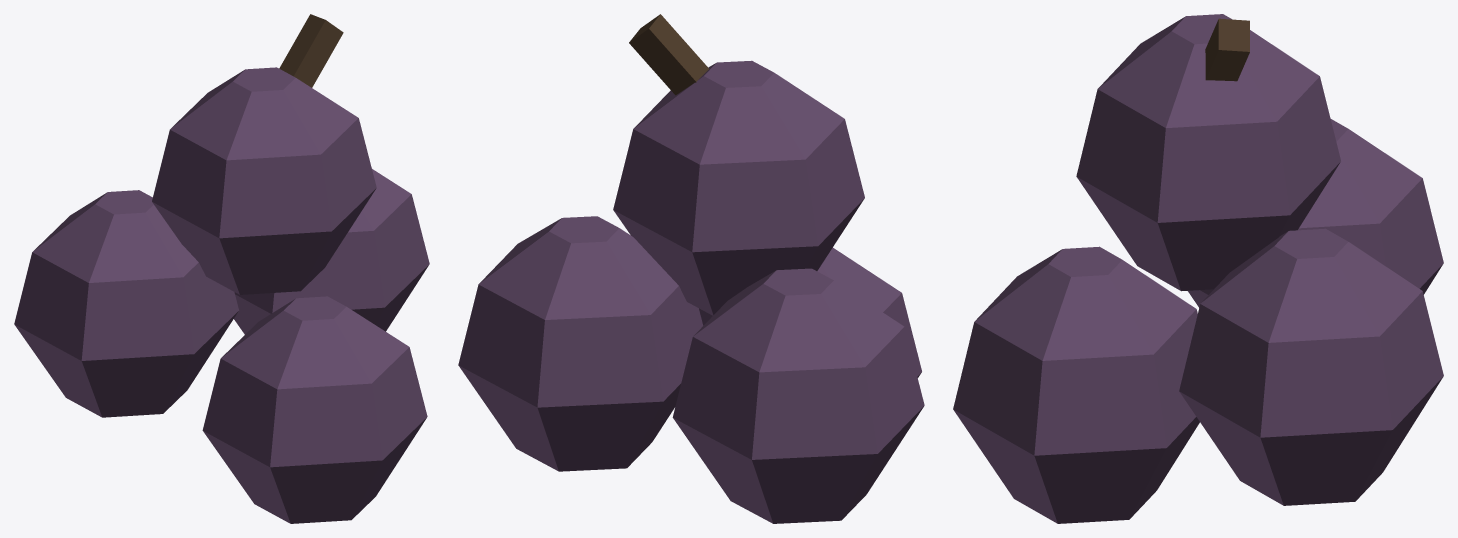
Rendered from grape.glb.
The picture shows the model from 3 angles, left to right: view 1: azimuth 30°, elevation 25°; view 2: azimuth 150°, elevation 25°; view 3: azimuth 270°, elevation 25°; orthographic projection. The views are drawn at different scales.
Parts seen in each view (by area): view 1: grape; view 2: grape; view 3: grape.
Boxes of the visible parts, box(x1,y1,x2,y2) form: grape: box(14, 14, 429, 523); grape: box(458, 14, 924, 523); grape: box(953, 14, 1443, 523).
Bounding box in the file's own units: 0.5094 × 0.553 × 0.4778.
